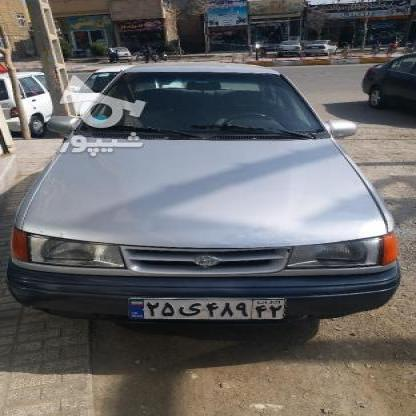licence: (128, 298, 285, 319)
